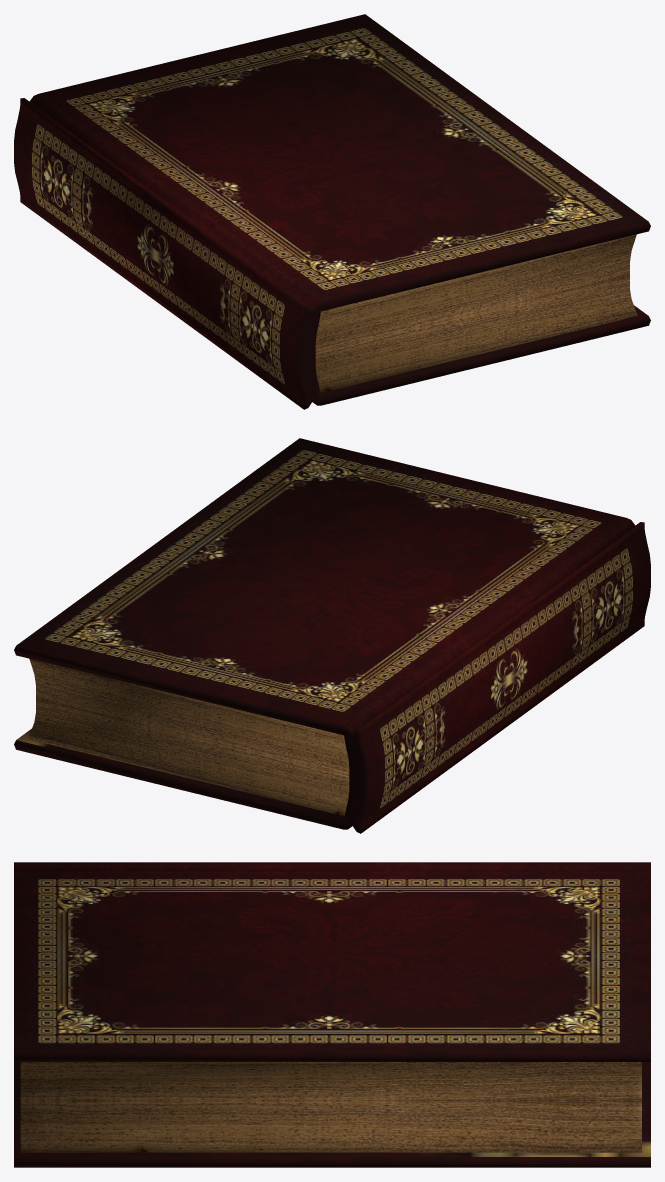
File: Libro1.fbx
3 views of the same model, one above another, from view 1: azimuth 30°, elevation 25°; view 2: azimuth 150°, elevation 25°; view 3: azimuth 270°, elevation 25° (orthographic). The views are drawn at different scales.
Visible parts, largest first — view 1: Libro 1, Libro 1.001; view 2: Libro 1, Libro 1.001; view 3: Libro 1, Libro 1.001.
Boxes of the visible parts, left/top/right/bottom form: Libro 1: left=14, top=14, right=650, bottom=409; Libro 1.001: left=315, top=234, right=637, bottom=393; Libro 1: left=14, top=438, right=650, bottom=833; Libro 1.001: left=28, top=658, right=349, bottom=816; Libro 1: left=14, top=862, right=650, bottom=1167; Libro 1.001: left=20, top=1062, right=641, bottom=1152.
Size of the model in its own units: 205 by 57.61 by 285.
